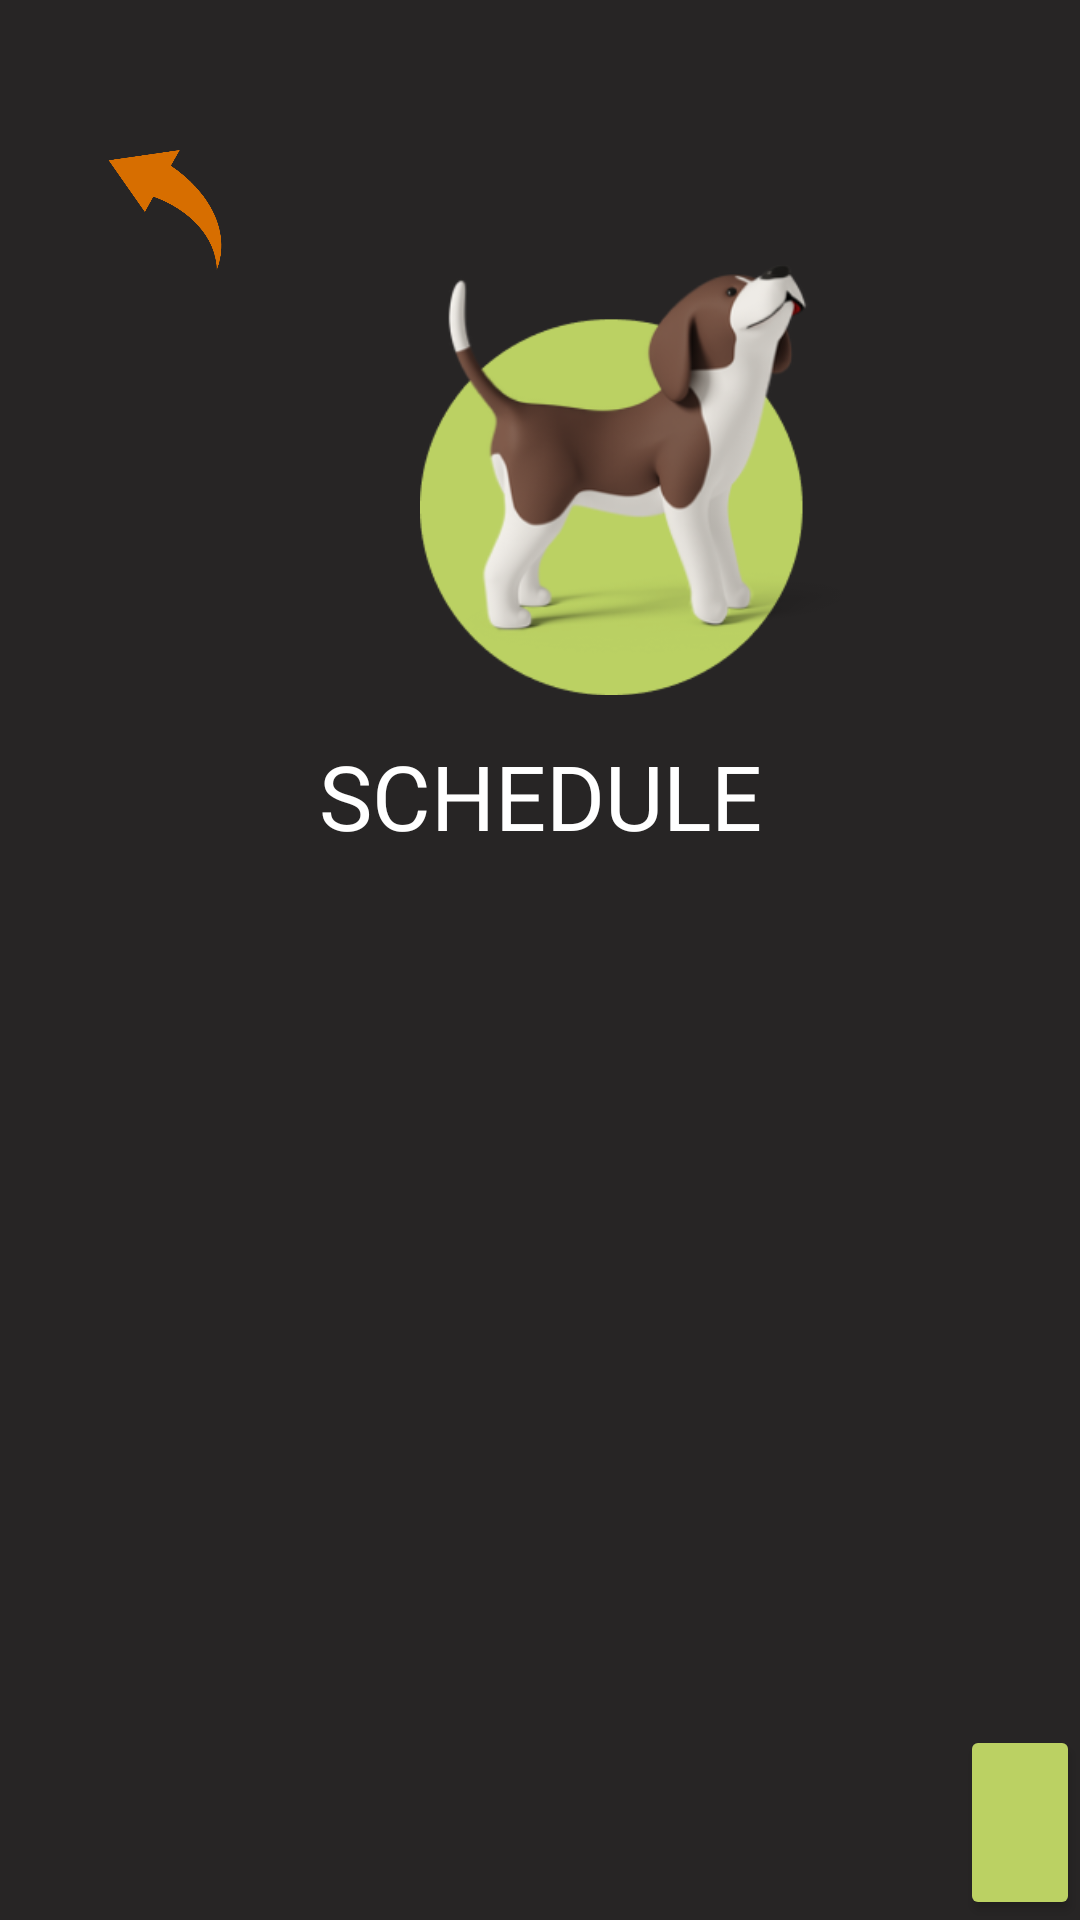

Locate icon controls on the screen. Image size 1080w x 1920h, boxes as rect(x1, y1, x2, y2).
back: rect(109, 150, 222, 269)
